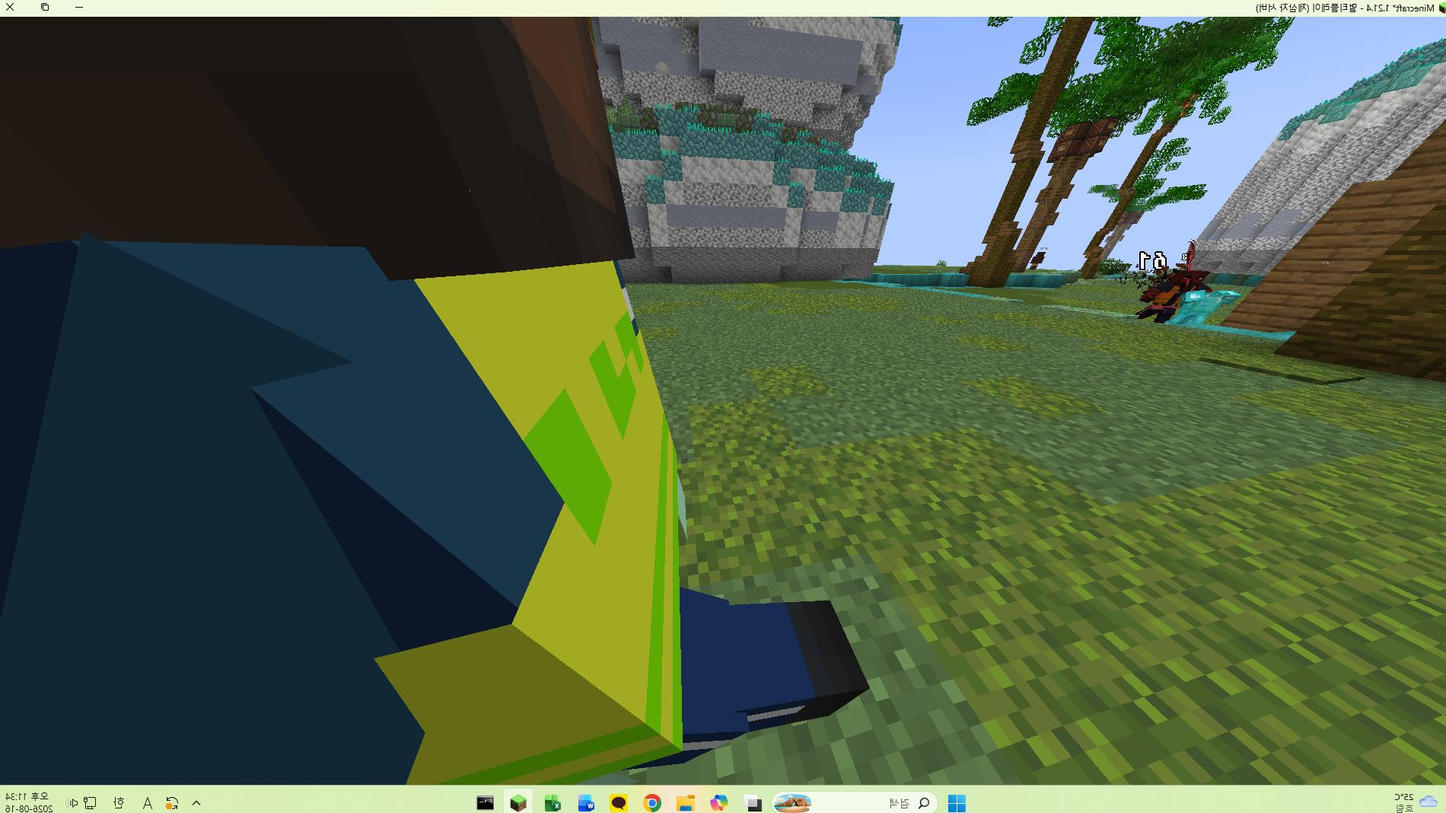Guardian: (0, 18, 867, 790)
